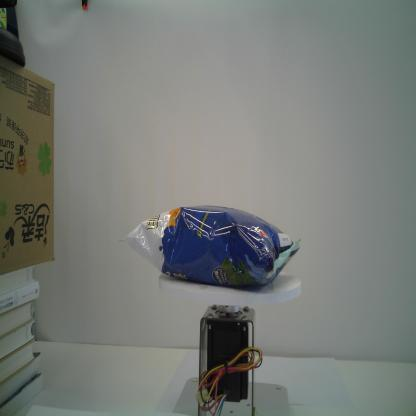Puffed Food: (118, 204, 302, 290)
